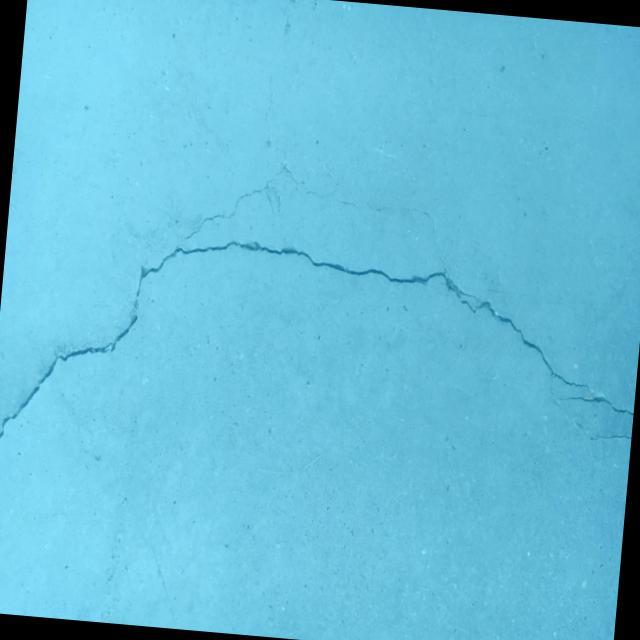crack: (0, 219, 599, 512), (278, 162, 442, 245), (200, 171, 274, 234), (558, 392, 634, 415), (590, 431, 632, 444)
